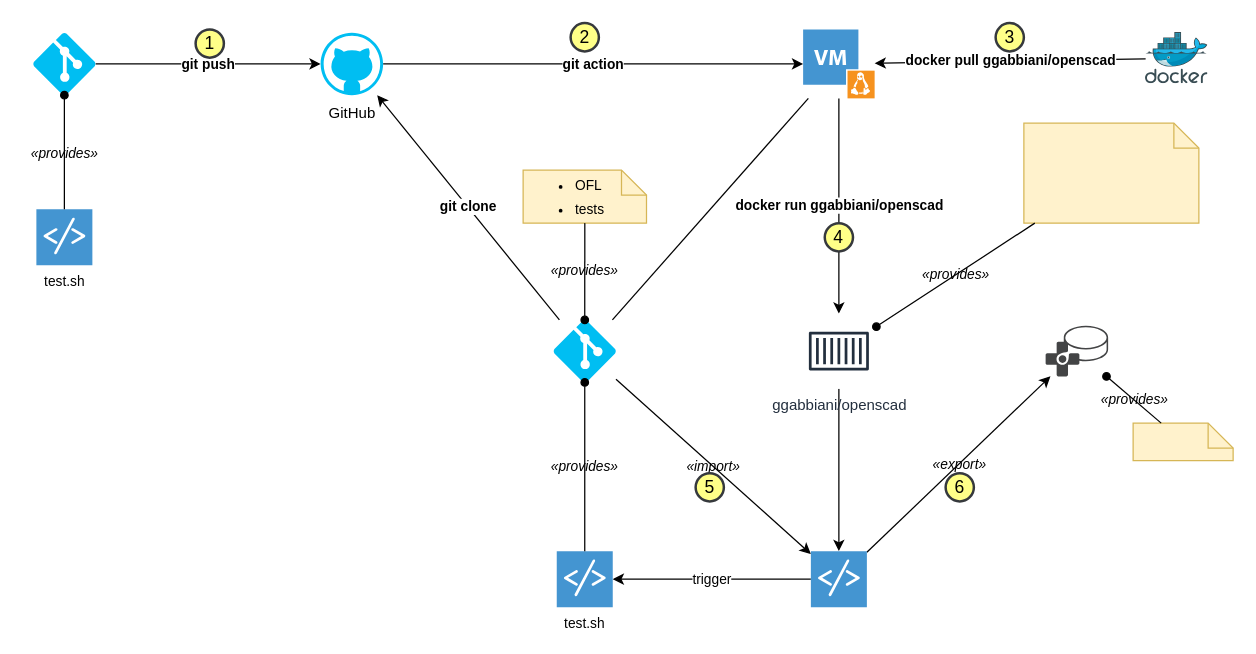
This 1256x654 diagram has some shape labels left out. The centre of each missing label's shape, as x and y in pixels:
entry-point.sh: point (838, 578)
local git repo: point (63, 63)
NopSCADlib scad-utils TOUL: point (1111, 172)
repo clone: point (584, 350)
test results: point (1182, 441)
Ubuntu ranner: point (838, 63)
